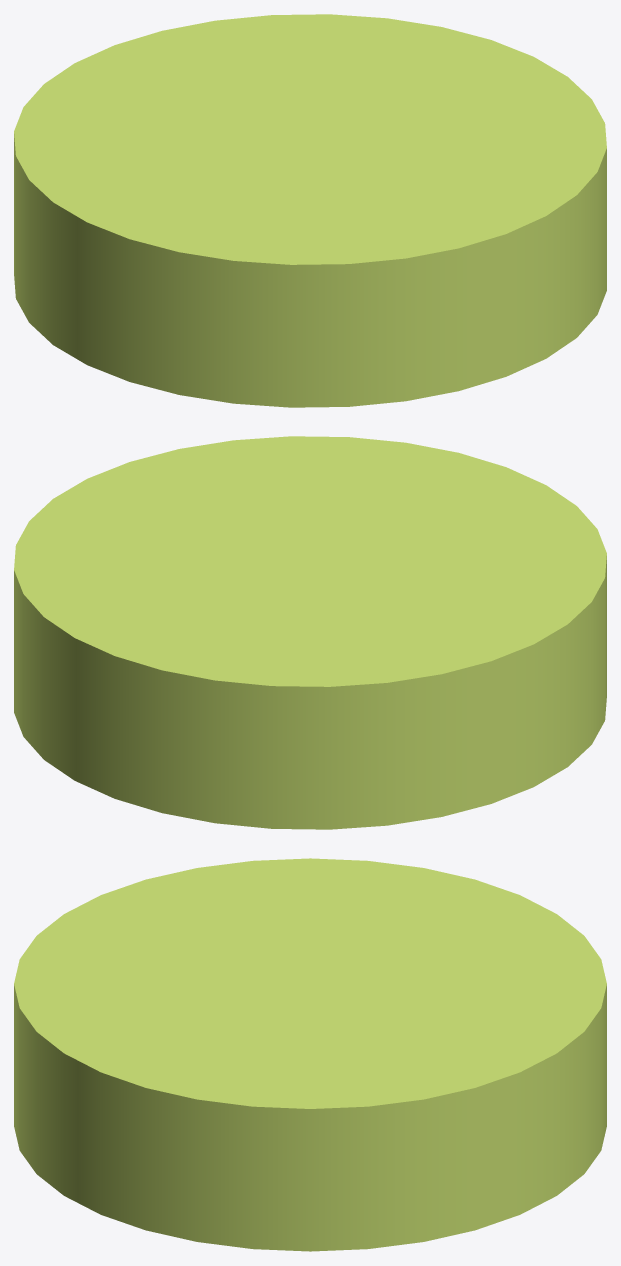
Rendered from cylinder_green.glb.
The picture shows the model from 3 angles, top to bottom: view 1: azimuth 30°, elevation 25°; view 2: azimuth 150°, elevation 25°; view 3: azimuth 270°, elevation 25°; orthographic projection.
Visible parts, largest first — view 1: Cylinder; view 2: Cylinder; view 3: Cylinder.
Boxes of the visible parts, left/top/right/bottom form: Cylinder: left=14, top=14, right=606, bottom=407; Cylinder: left=14, top=436, right=606, bottom=829; Cylinder: left=14, top=858, right=606, bottom=1251.
Size of the model in its own units: 2 by 0.5302 by 2.
